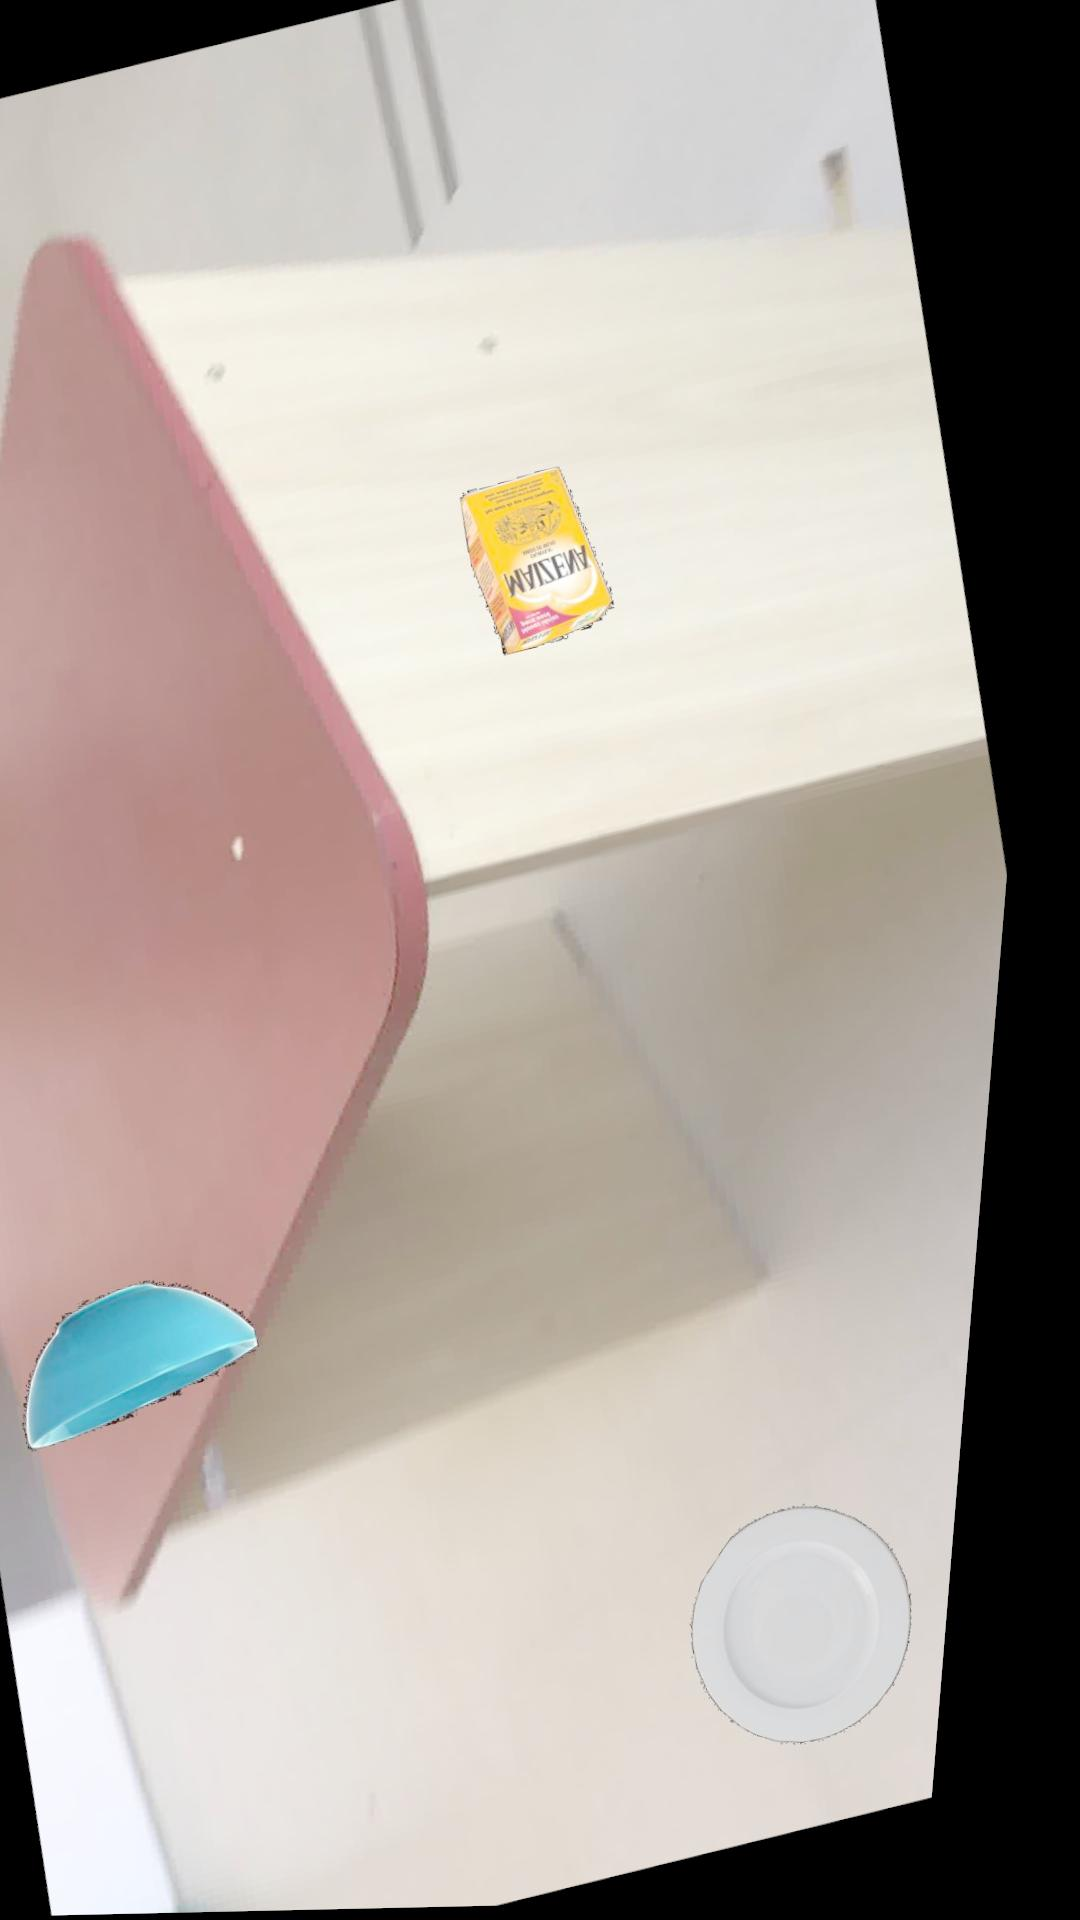bowl: (49, 1282, 284, 1451)
plate: (720, 1510, 940, 1749)
